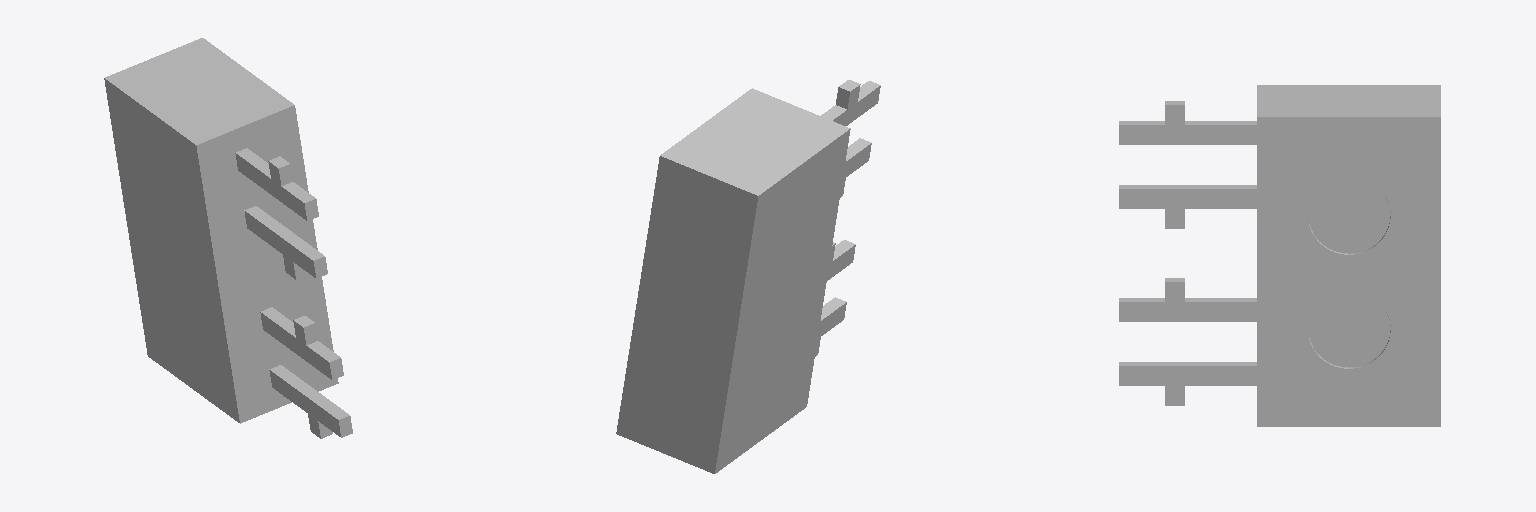
File: IRIDIAepuck3D_Nov2019_Proximity0.obj
The picture shows the model from 3 angles: view 1: azimuth 30°, elevation 25°; view 2: azimuth 150°, elevation 25°; view 3: azimuth 270°, elevation 25°; orthographic projection.
Visible parts, largest first — view 1: brep_82; view 2: brep_82; view 3: brep_82.
Part boxes in pixels (bbox=[...]): brep_82: bbox=[104, 38, 352, 438]; brep_82: bbox=[616, 80, 880, 473]; brep_82: bbox=[1119, 85, 1440, 426].
Size of the model in its own units: 0.0036 by 0.0073 by 0.007.